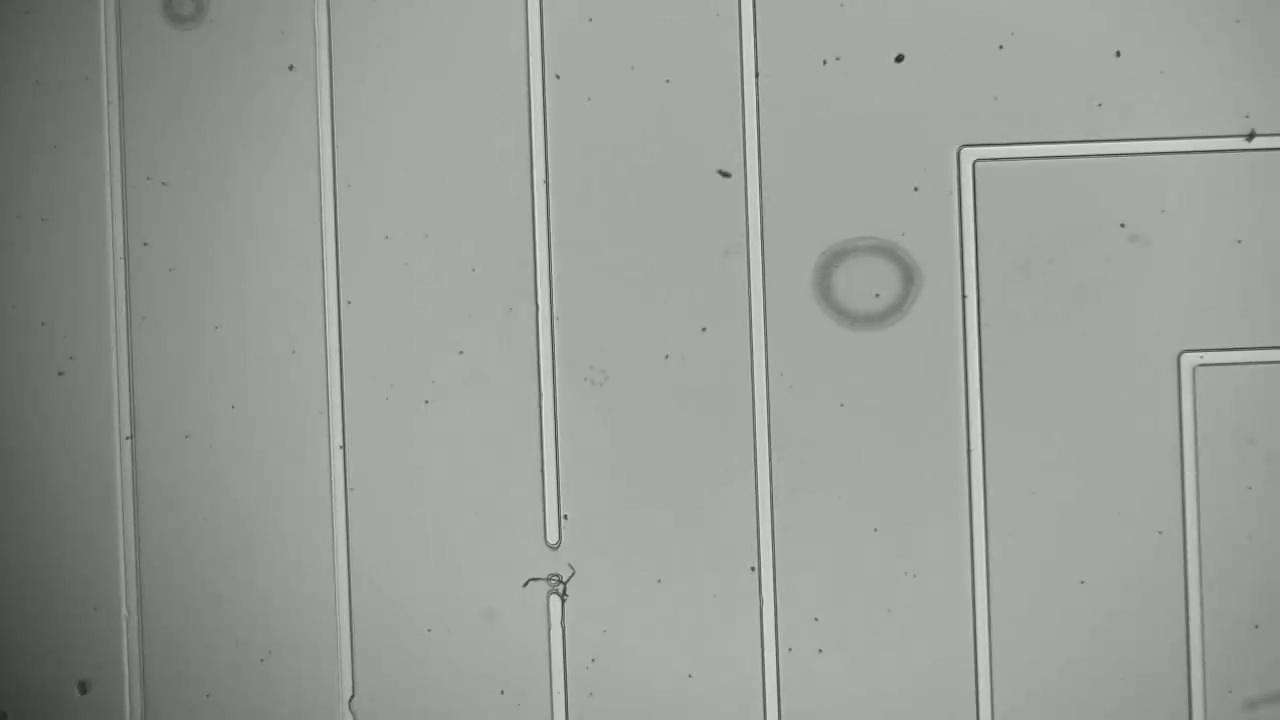edge_bite: (330, 690, 365, 719)
open: (532, 529, 573, 608)
stains_enbedded: (1235, 124, 1268, 157)
